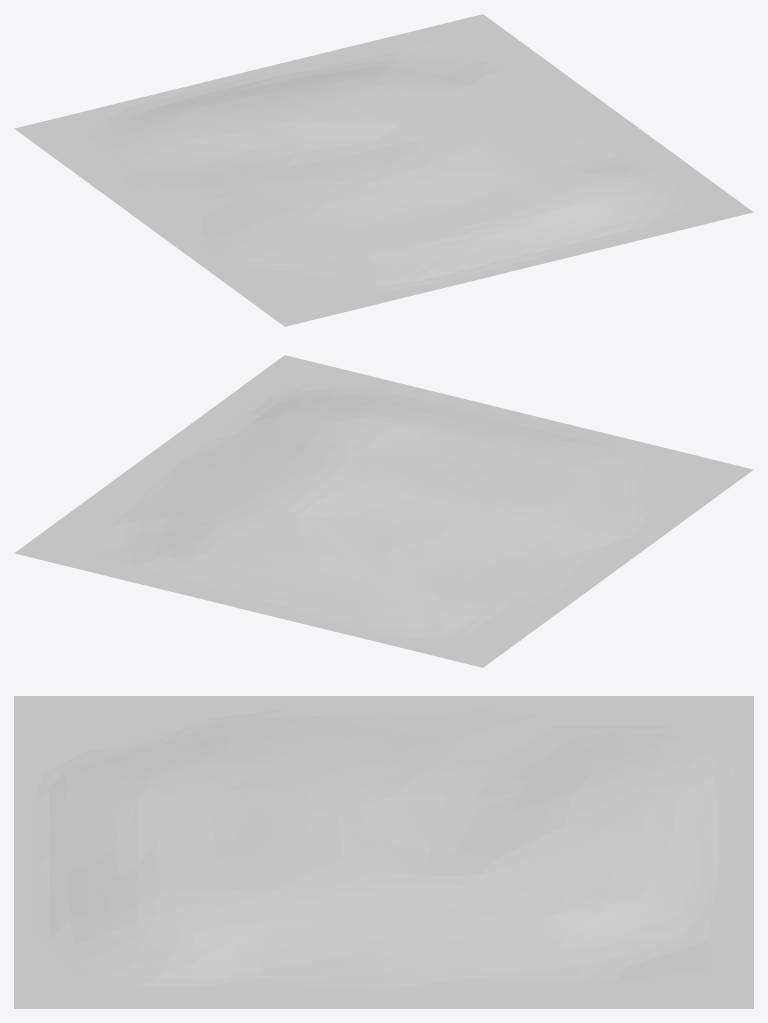
File: Terrain_21.glb
The picture shows the model from 3 angles, top to bottom: view 1: azimuth 30°, elevation 25°; view 2: azimuth 150°, elevation 25°; view 3: azimuth 270°, elevation 25°; orthographic projection. The views are drawn at different scales.
Visible parts, largest first — view 1: Terrain_21; view 2: Terrain_21; view 3: Terrain_21.
Boxes of the visible parts, x1,y1,x2,y2 form: Terrain_21: (14, 14, 753, 326); Terrain_21: (14, 355, 753, 667); Terrain_21: (14, 696, 753, 1008).
Size of the model in its own units: 128 by 2.47 by 128.
1 material, 1 textured.
